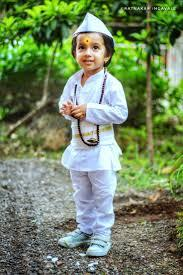Human: (52, 4, 131, 257)
